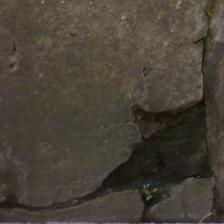Crack: (24, 0, 171, 107), (22, 50, 129, 162), (0, 0, 68, 86)
